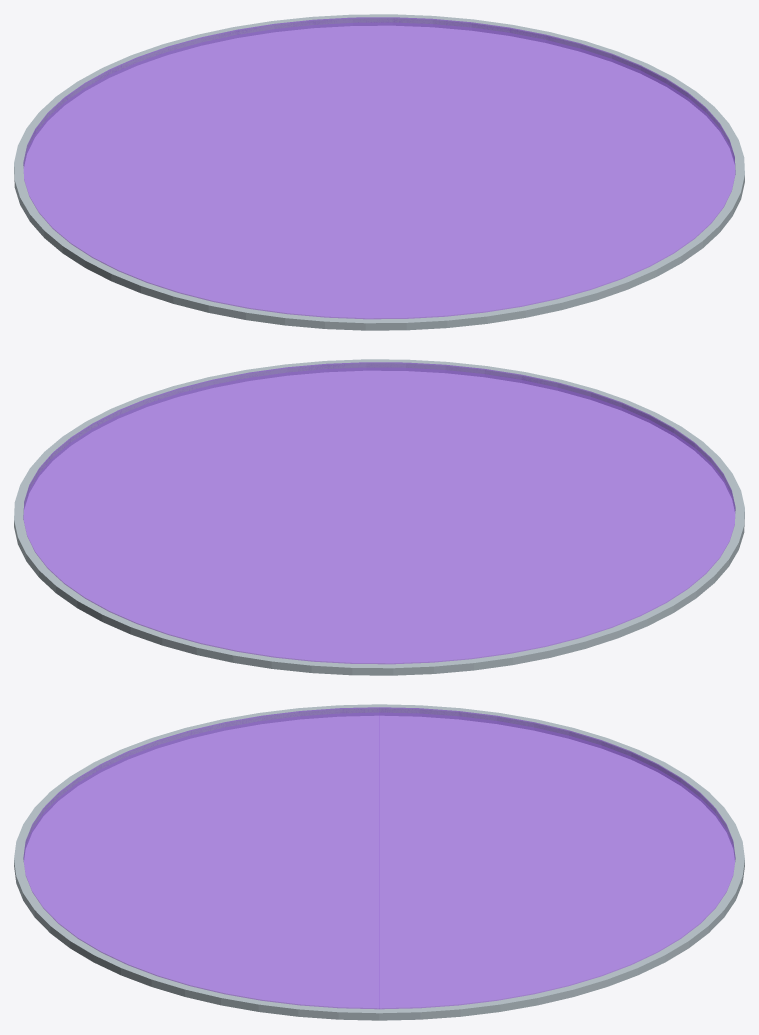
Rendered from 23_L76_AnodeSeparatorMembrane.fbx.
3 views of the same model, one above another, from view 1: azimuth 30°, elevation 25°; view 2: azimuth 150°, elevation 25°; view 3: azimuth 270°, elevation 25° (orthographic).
Visible parts, largest first — view 1: AnodeSeparatorMembrane; view 2: AnodeSeparatorMembrane; view 3: AnodeSeparatorMembrane.
Boxes of the visible parts, <box> form: AnodeSeparatorMembrane: <box>14,14,744,330</box>; AnodeSeparatorMembrane: <box>14,359,744,675</box>; AnodeSeparatorMembrane: <box>14,704,744,1020</box>.
Size of the model in its own units: 312 by 4 by 312.
